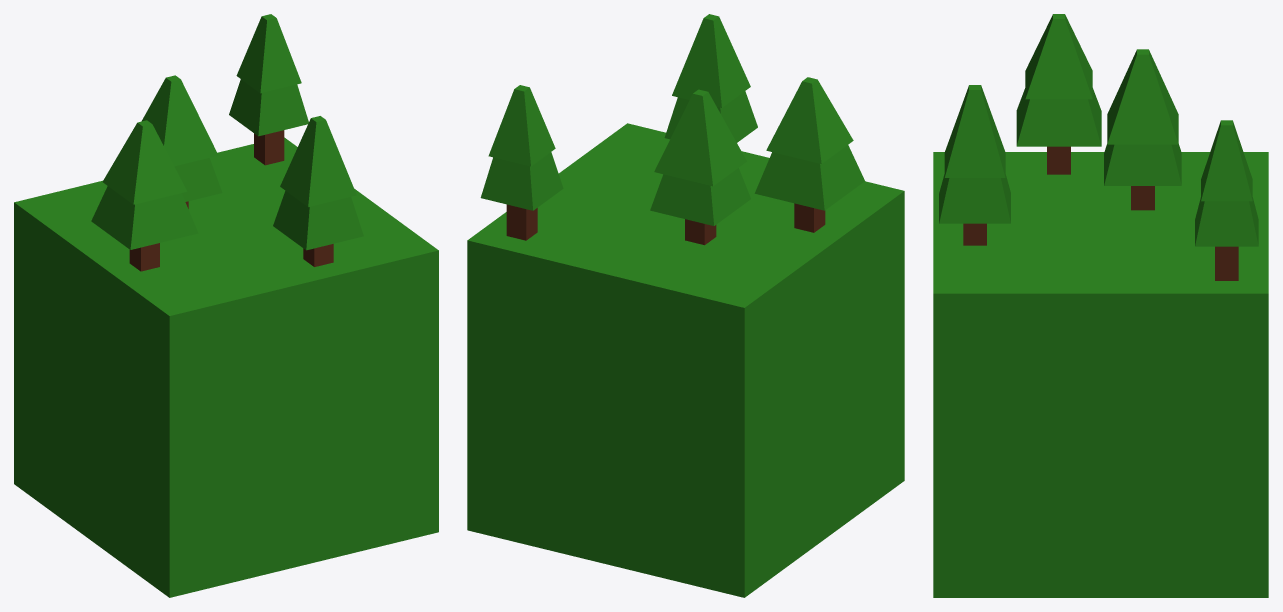
The model's file is tree2.fbx.
3 views of the same model, side by side, from view 1: azimuth 30°, elevation 25°; view 2: azimuth 150°, elevation 25°; view 3: azimuth 270°, elevation 25° (orthographic). The views are drawn at different scales.
Parts seen in each view (by area): view 1: tree; view 2: tree; view 3: tree.
Part boxes in pixels (left/top/right/bottom): tree: left=14, top=14, right=438, bottom=597; tree: left=467, top=14, right=904, bottom=597; tree: left=933, top=14, right=1268, bottom=597.
Size of the model in its own units: 200 by 301 by 200.
